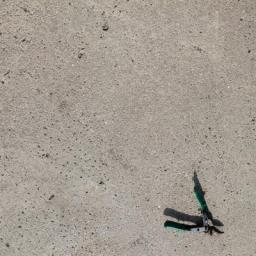FOD: (158, 170, 227, 241)
